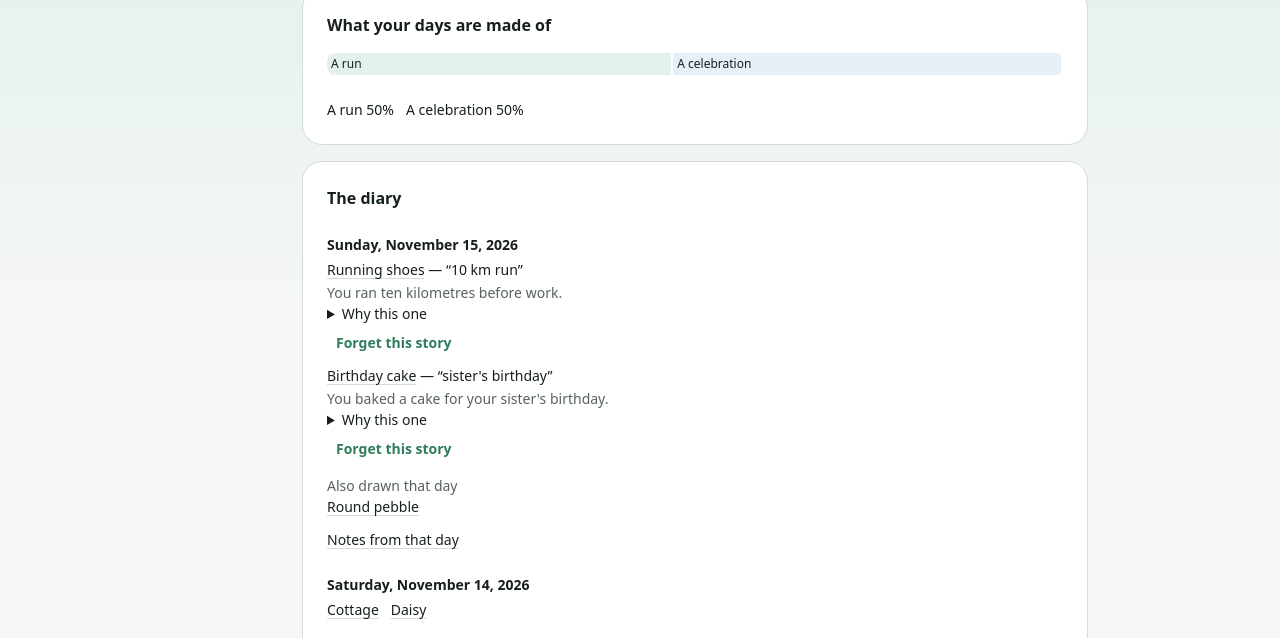
it: WorldView as a diary › shows the odds of a pick and opens the day's notes
Later steps or results of the test are not shown.
(page scrolled)
Click the heading "Why this one" below "— “10 km run”" at (384, 314), box [342,304,427,323]
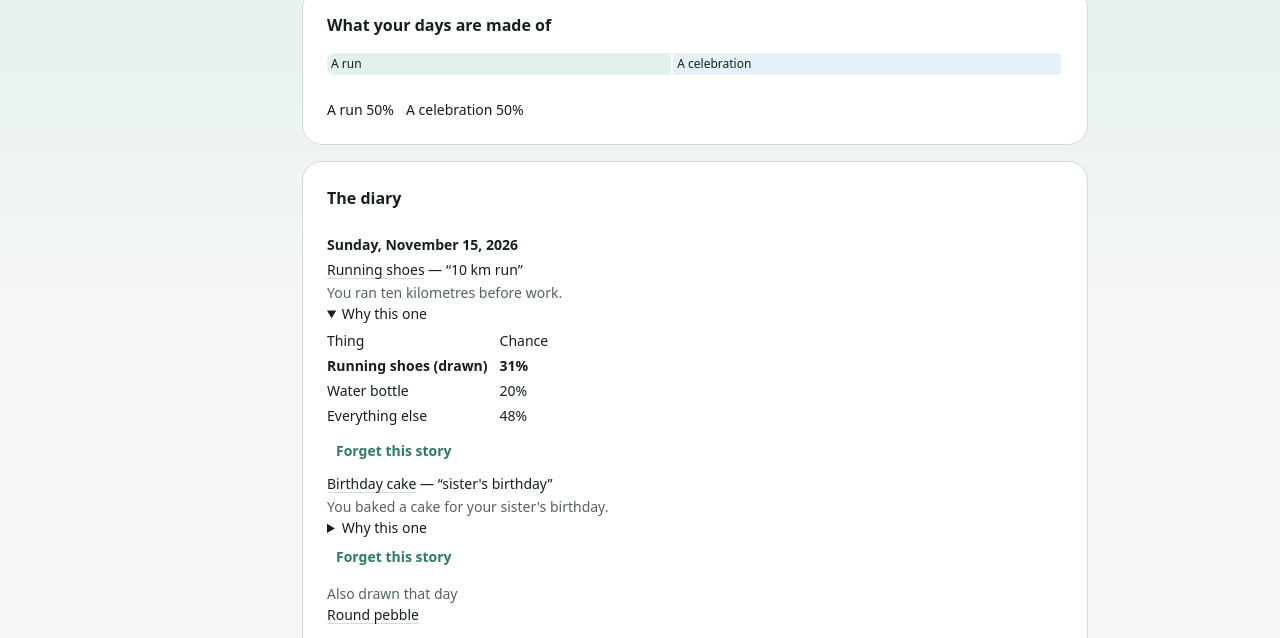
Check: the row "Running shoes (drawn) 31%" is shown, box [327,353,560,378]
Check: the row "Water bottle 20%" is shown, box [327,378,560,403]
Check: the row "Everything else 48%" is shown, box [327,403,560,428]
Click the heading "Why this one" below "— “sister's birthday”" at (384, 528), box [342,518,427,537]
(page scrolled)
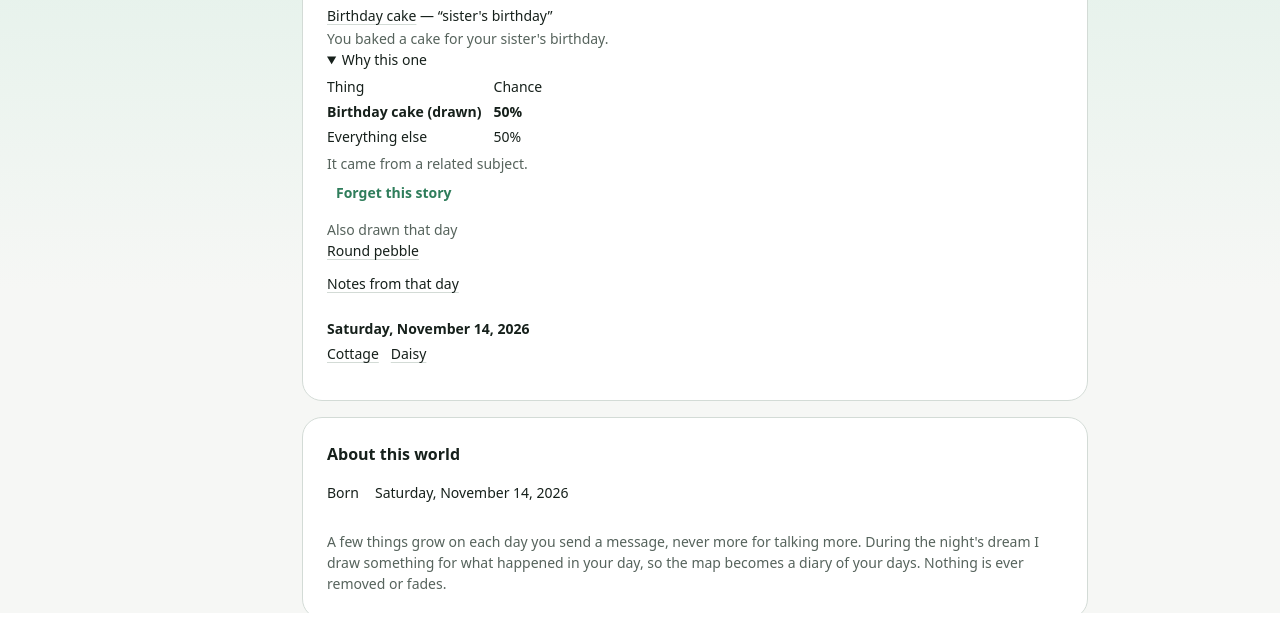
Check: the text "It came from a related subject." is shown, box [327,154,528,173]
